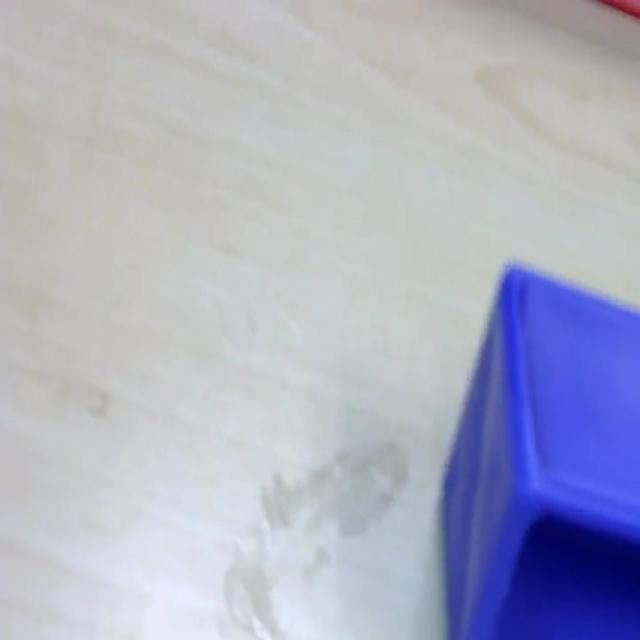blue_block: (440, 258, 638, 638)
